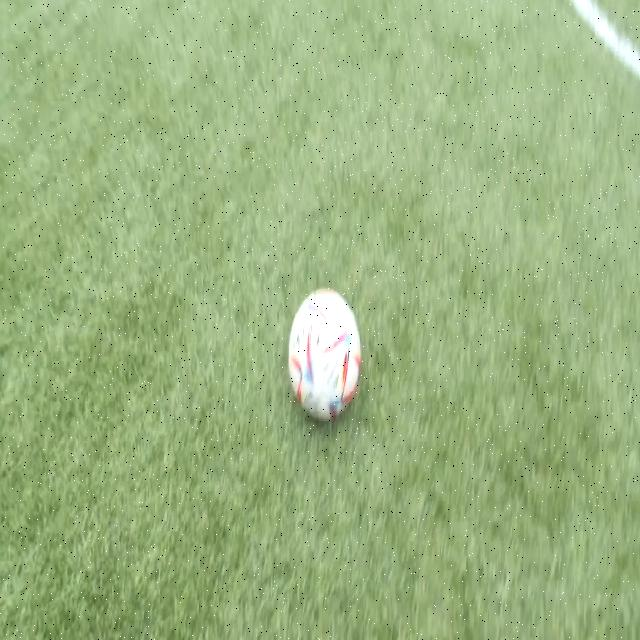ball: (288, 289, 362, 421)
